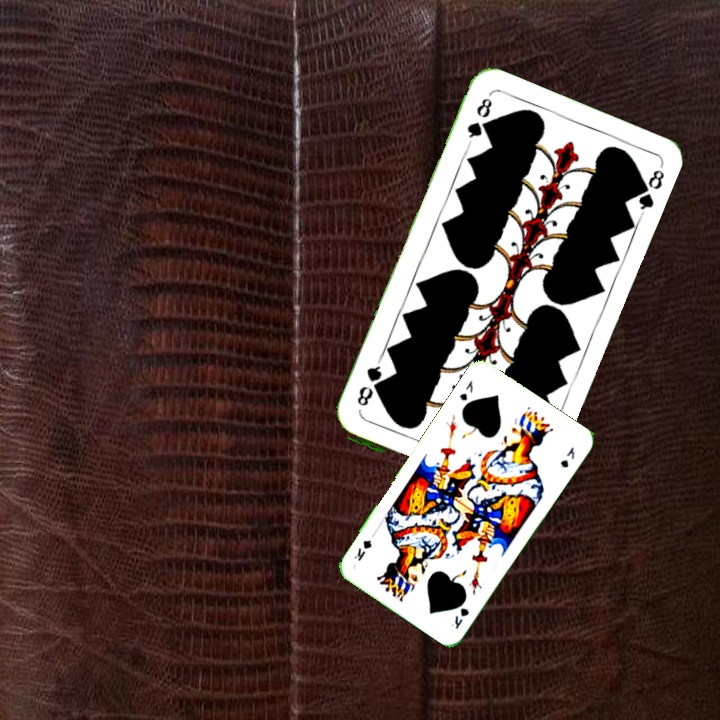G8: (463, 93, 495, 148)
GK: (447, 603, 472, 632), (455, 376, 476, 403)
